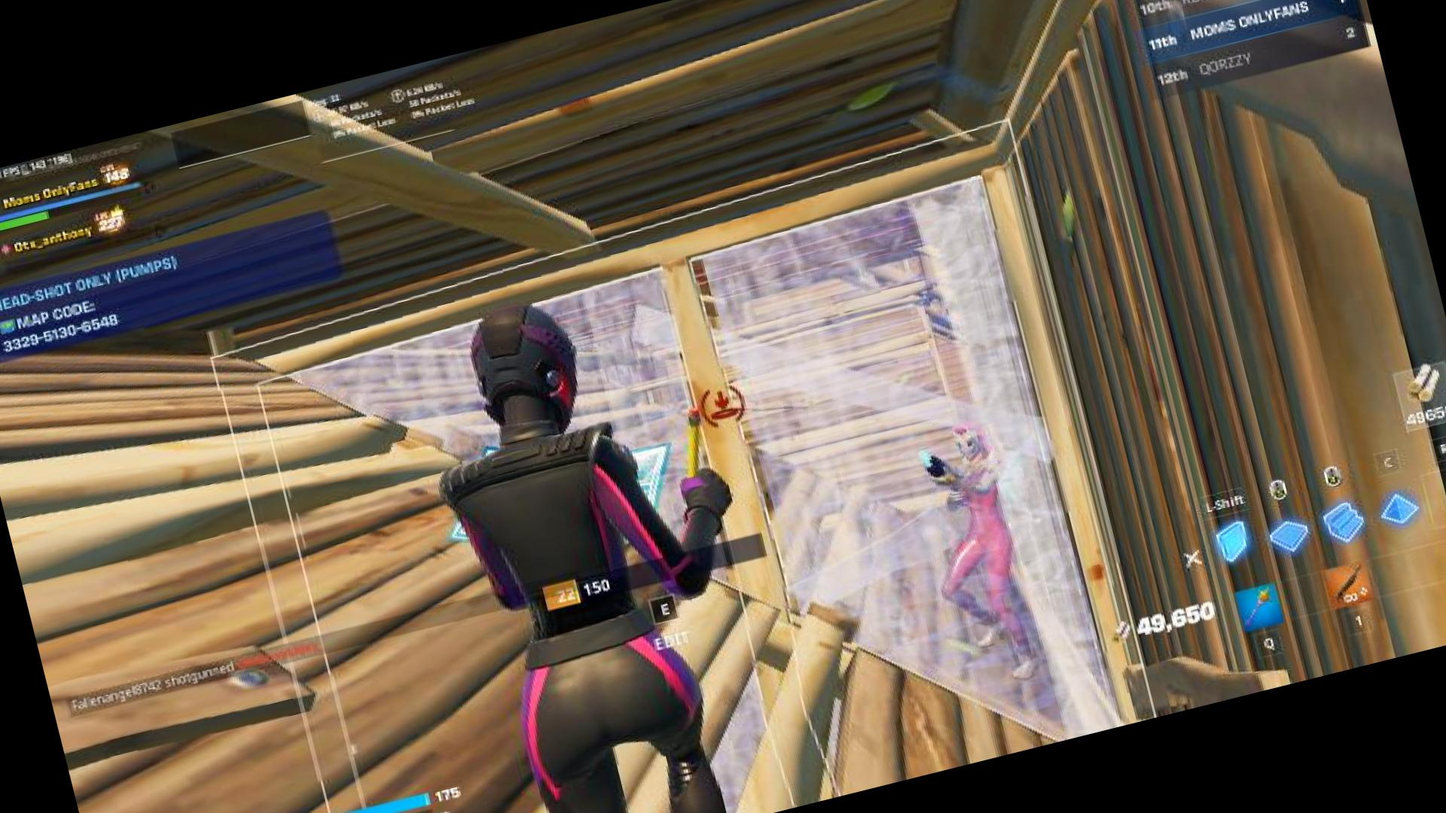player: (892, 410, 1073, 696)
